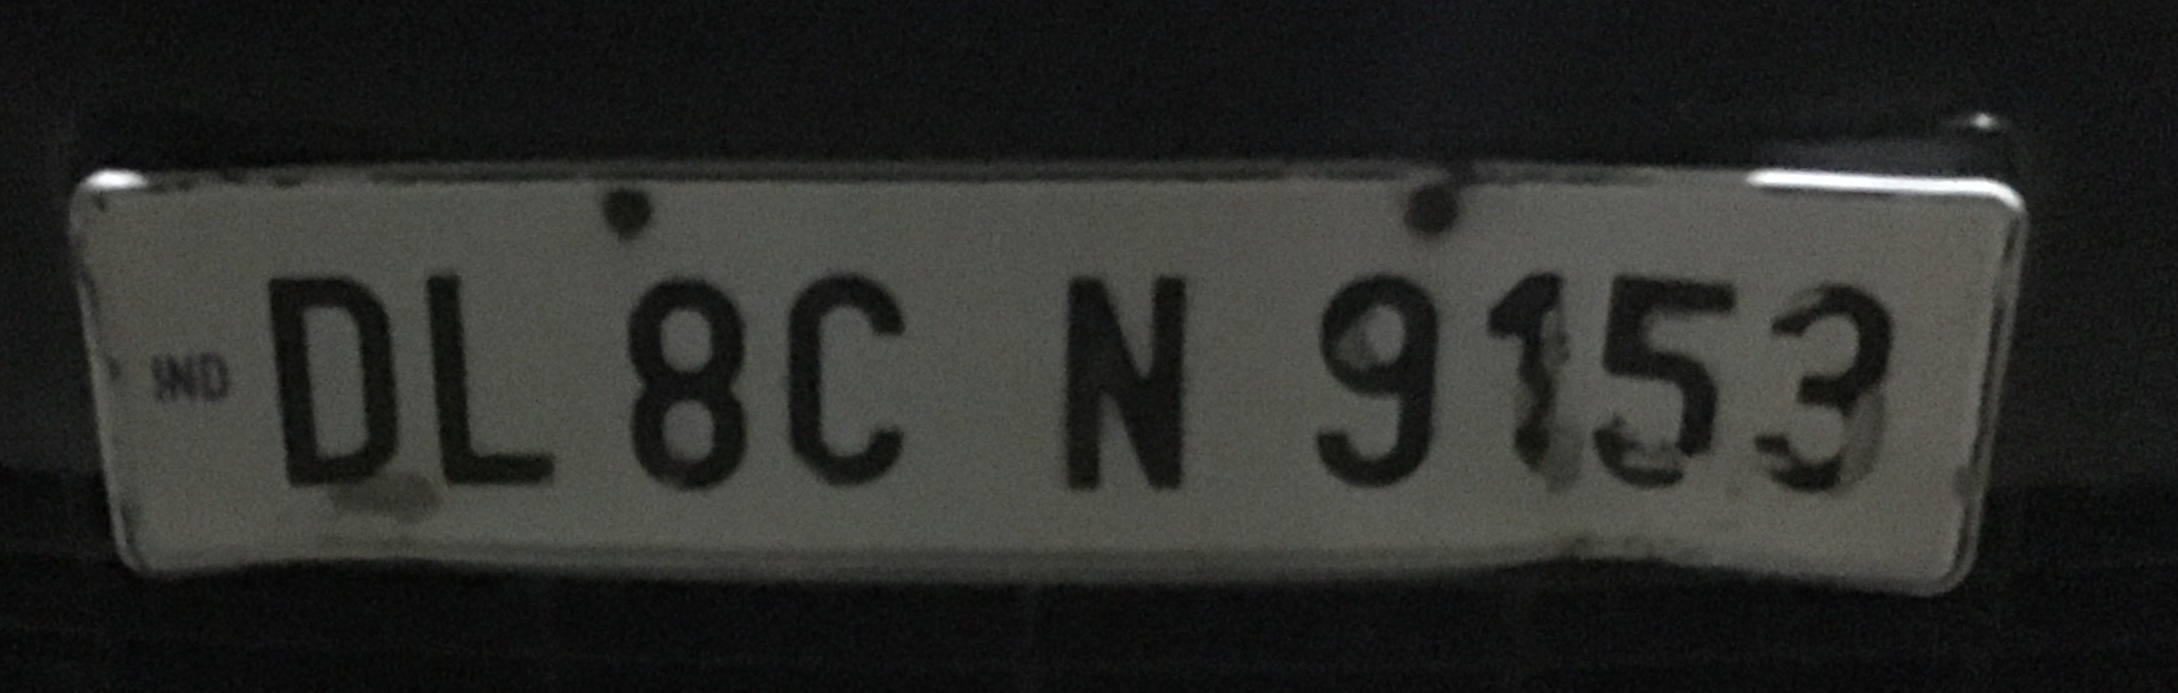numberplate: (67, 159, 2029, 606)
